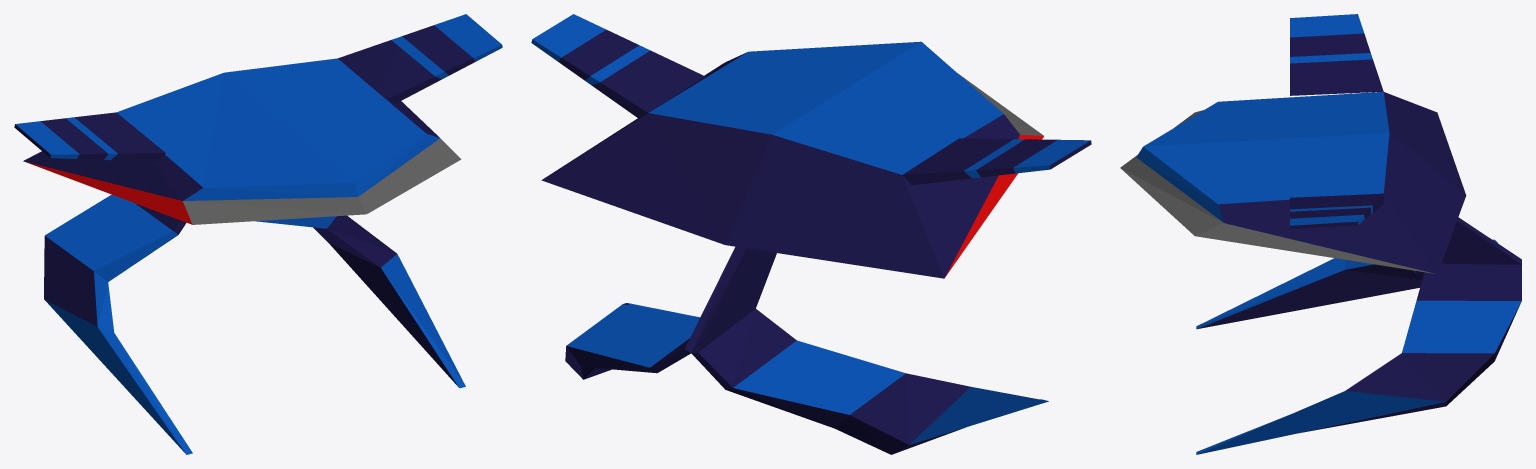
Rendered from TankSpoiler02R01.gltf.
The picture shows the model from 3 angles, left to right: view 1: azimuth 30°, elevation 25°; view 2: azimuth 150°, elevation 25°; view 3: azimuth 270°, elevation 25°; orthographic projection. The views are drawn at different scales.
Parts seen in each view (by area): view 1: TankSpoiler02R01; view 2: TankSpoiler02R01; view 3: TankSpoiler02R01.
Part boxes in pixels (x1,y1,x2,y2): TankSpoiler02R01: [14, 14, 502, 454]; TankSpoiler02R01: [531, 14, 1091, 454]; TankSpoiler02R01: [1120, 14, 1521, 454].
Size of the model in its own units: 0.1384 by 0.0845 by 0.1129.
